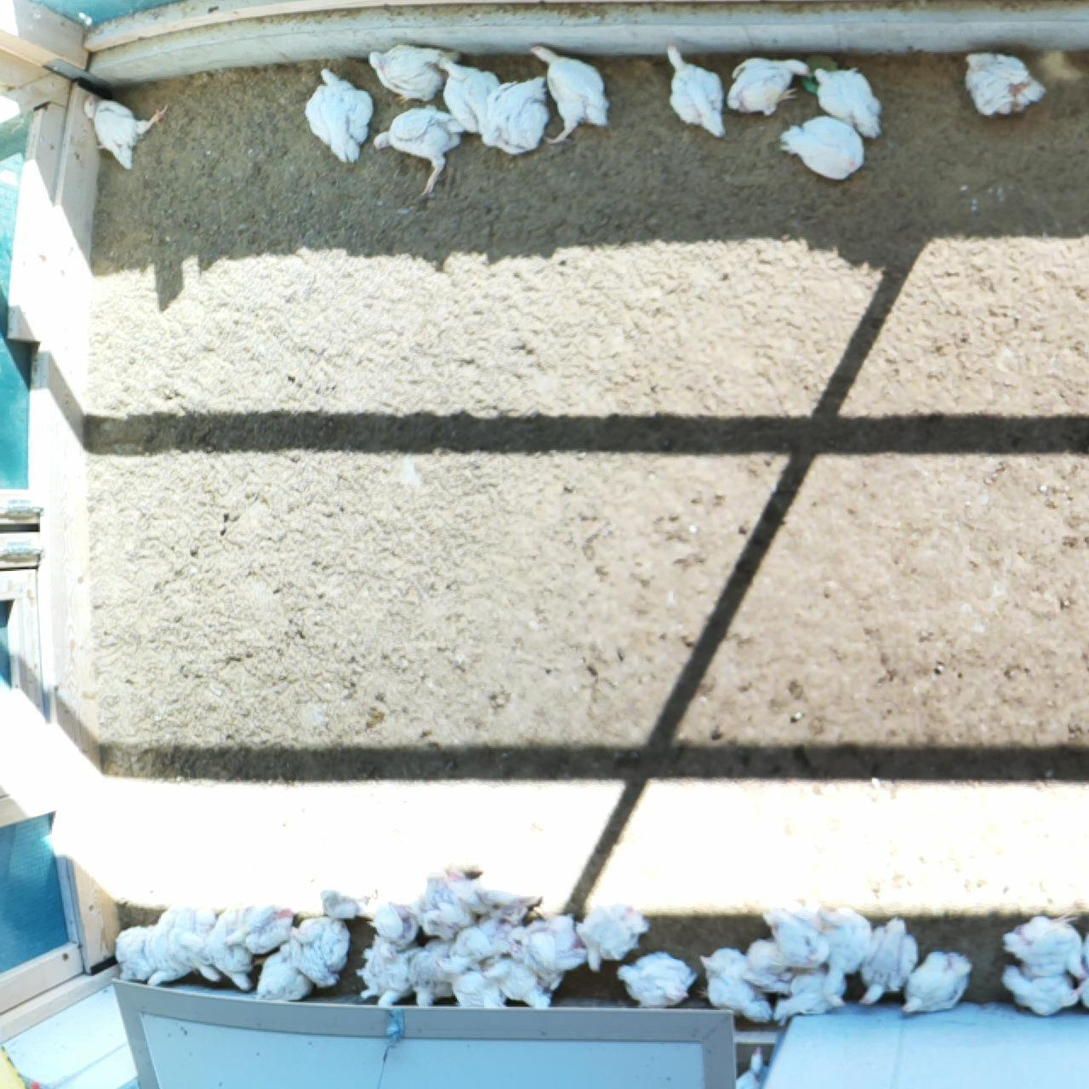chicken: (370, 99, 466, 198), (527, 45, 612, 148), (687, 941, 780, 1034), (301, 65, 376, 165), (999, 906, 1089, 988), (851, 912, 925, 1006), (775, 110, 868, 182), (663, 46, 734, 140), (83, 94, 173, 168), (958, 48, 1046, 121), (431, 50, 504, 137), (810, 62, 886, 145), (480, 74, 554, 157), (446, 862, 543, 925), (729, 924, 812, 996), (723, 52, 816, 116), (996, 961, 1089, 1024), (365, 43, 461, 104), (574, 900, 651, 975), (897, 947, 972, 1023), (614, 947, 701, 1012), (812, 899, 869, 996), (279, 917, 350, 990), (768, 967, 848, 1031), (436, 916, 522, 975), (757, 899, 830, 968), (202, 902, 254, 996), (475, 951, 552, 1012), (516, 908, 589, 972), (168, 902, 222, 984), (355, 938, 413, 1012), (142, 905, 195, 984), (304, 867, 381, 919), (409, 870, 469, 936), (250, 940, 312, 1003), (366, 884, 421, 952), (221, 900, 294, 951), (408, 938, 457, 1010), (433, 961, 503, 1011), (502, 936, 564, 992), (111, 926, 161, 988), (727, 1044, 778, 1089)
